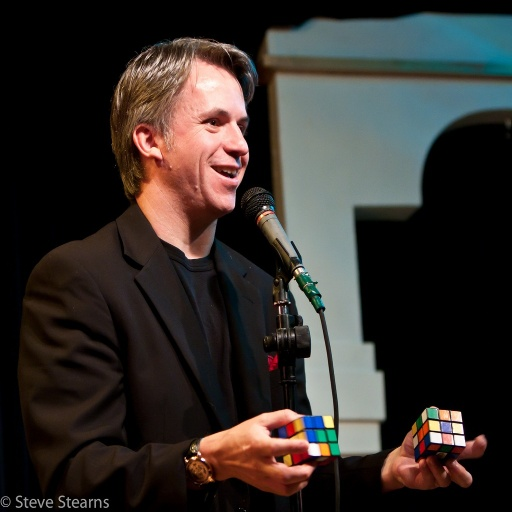hand: (178, 415, 317, 499), (389, 404, 489, 491)
